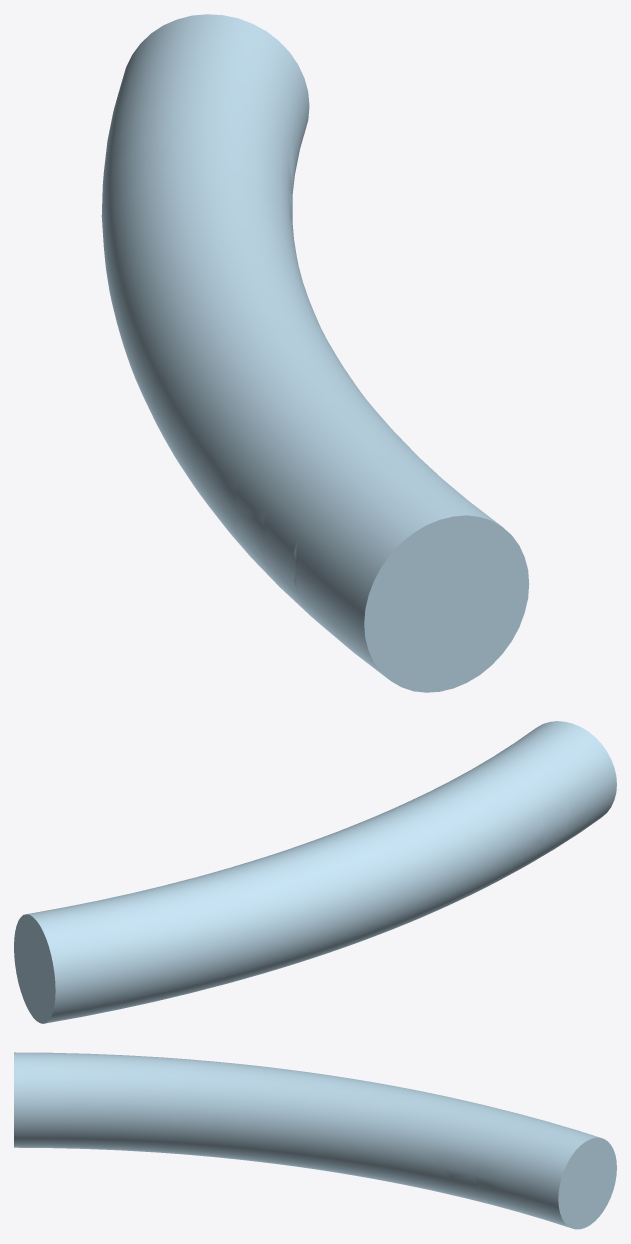
The model's file is Exc_Motor_5203_2402_0188_9.obj.
3 renders of one model, top to bottom at view 1: azimuth 30°, elevation 25°; view 2: azimuth 150°, elevation 25°; view 3: azimuth 270°, elevation 25°, orthographic. The views are drawn at different scales.
Parts seen in each view (by area): view 1: mesh28562; view 2: mesh28562; view 3: mesh28562.
Boxes of the visible parts, x1,y1,x2,y2 form: mesh28562: (101, 14, 529, 692); mesh28562: (14, 721, 616, 1023); mesh28562: (14, 1052, 616, 1229).
Bounding box in the file's own units: 0.00237 × 0.000797 × 0.00506.
